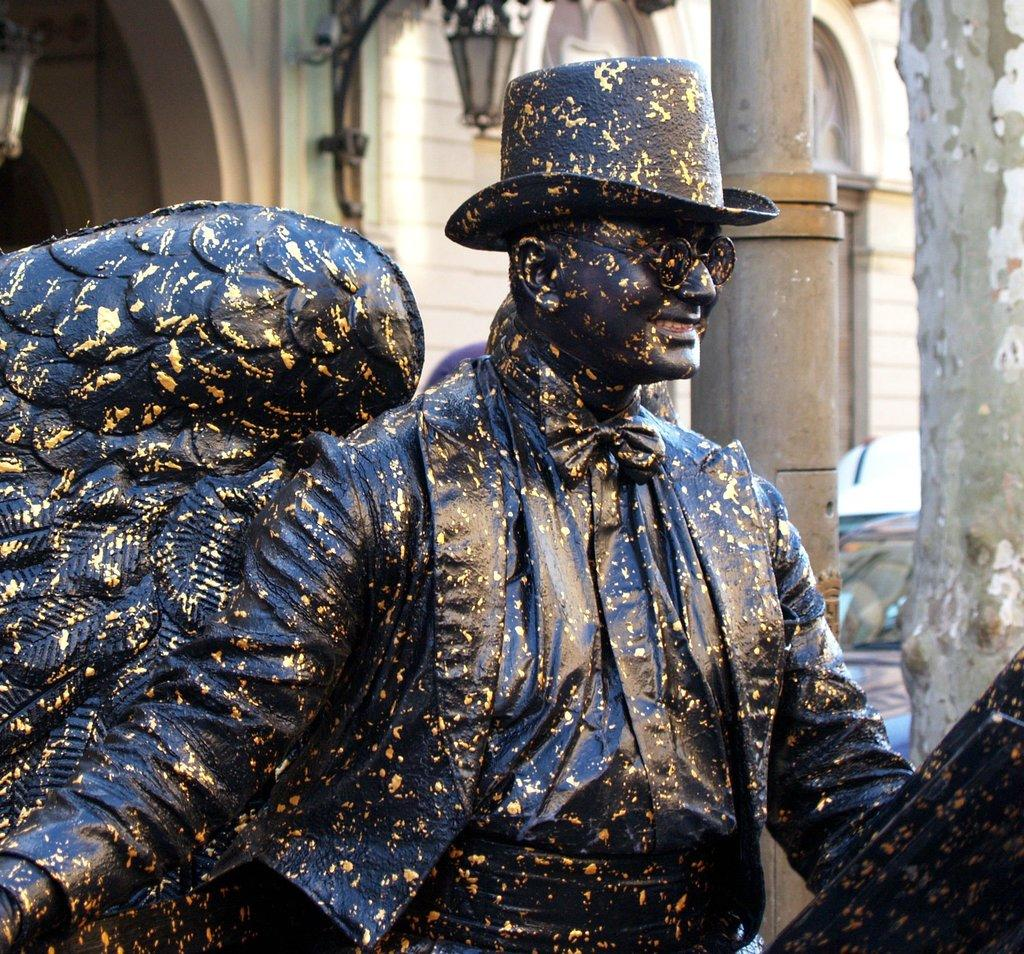Hat: (442, 58, 780, 254)
